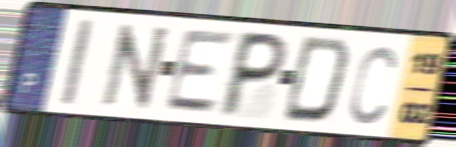C: (348, 42, 399, 127)
D: (279, 34, 354, 126)
E: (162, 29, 239, 115)
I: (58, 17, 96, 107)
N: (99, 22, 173, 112)
P: (214, 28, 292, 119)
